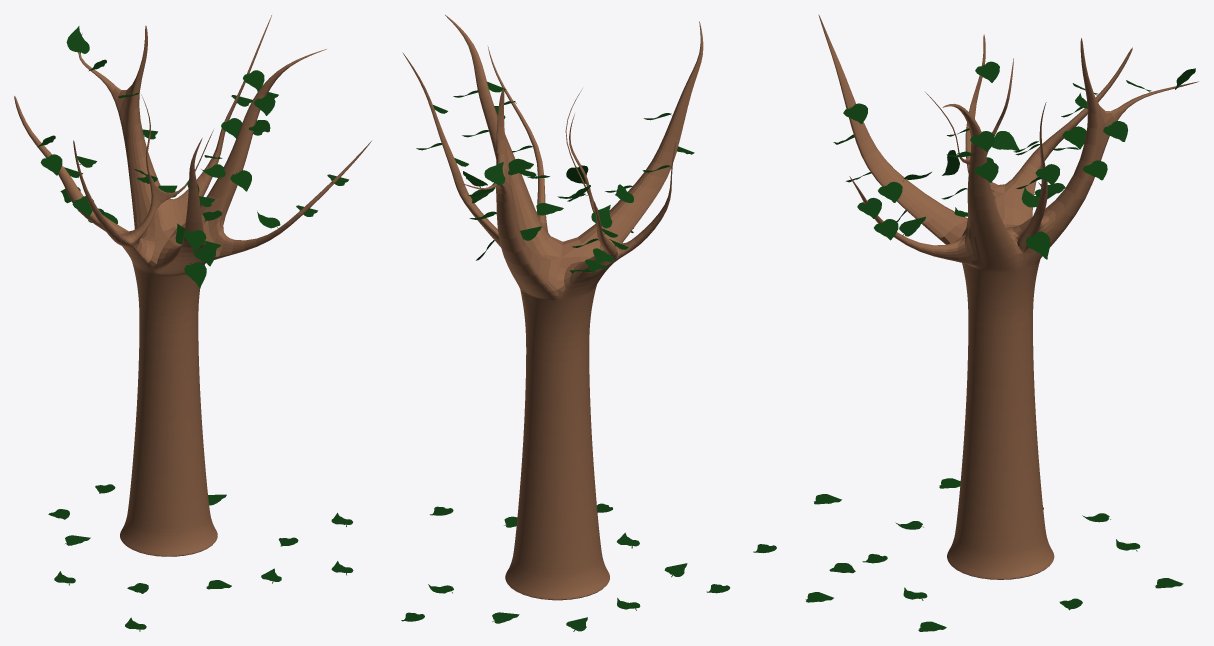
Rendered from tree.fbx.
3 views of the same model, side by side, from view 1: azimuth 30°, elevation 25°; view 2: azimuth 150°, elevation 25°; view 3: azimuth 270°, elevation 25° (orthographic). The views are drawn at different scales.
Parts seen in each view (by area): view 1: Cylinder; view 2: Cylinder; view 3: Cylinder.
Boxes of the visible parts, x1,y1,x2,y2 form: Cylinder: (14,15,371,556); Cylinder: (402,15,703,600); Cylinder: (818,14,1198,579).
Bounding box in the file's own units: 425 × 696 × 465.
